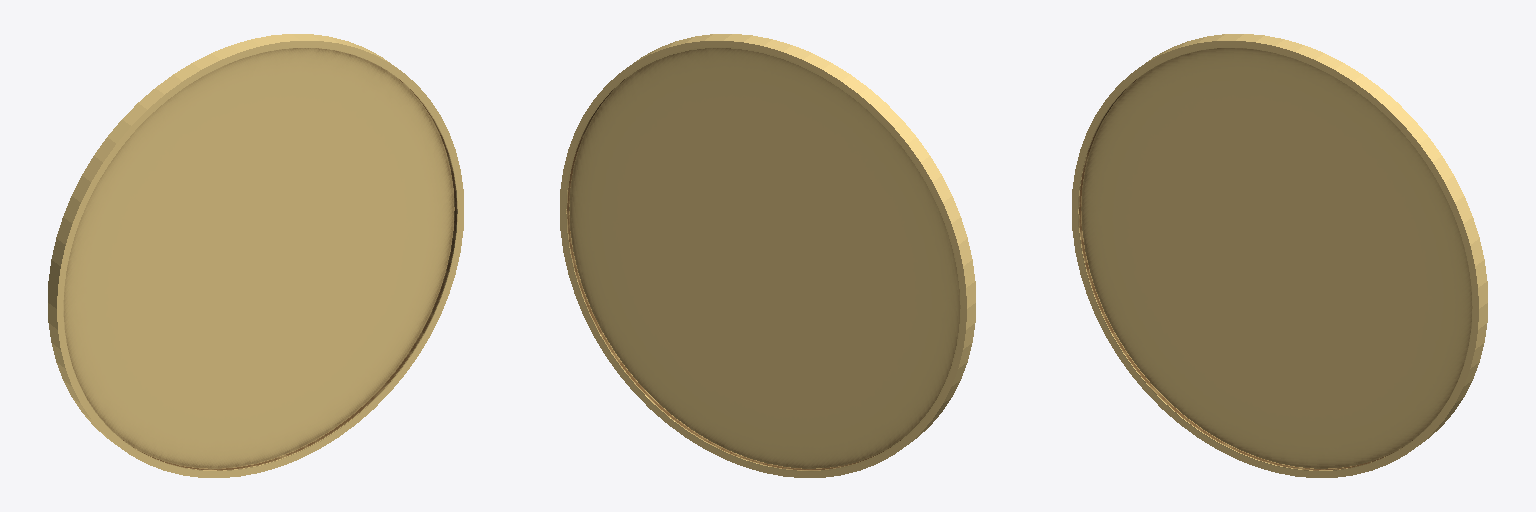
3 renders of one model, left to right at view 1: azimuth 30°, elevation 25°; view 2: azimuth 150°, elevation 25°; view 3: azimuth 330°, elevation 25°, orthographic.
Parts seen in each view (by area): view 1: Coin64_Cylinder.002; view 2: Coin64_Cylinder.002; view 3: Coin64_Cylinder.002.
Part boxes in pixels (bbox=[...]): Coin64_Cylinder.002: bbox=[48, 34, 463, 477]; Coin64_Cylinder.002: bbox=[560, 34, 975, 477]; Coin64_Cylinder.002: bbox=[1072, 34, 1487, 477].
Bounding box in the file's own units: 2.5 × 2.5 × 0.1.
1 materials, 1 textured.